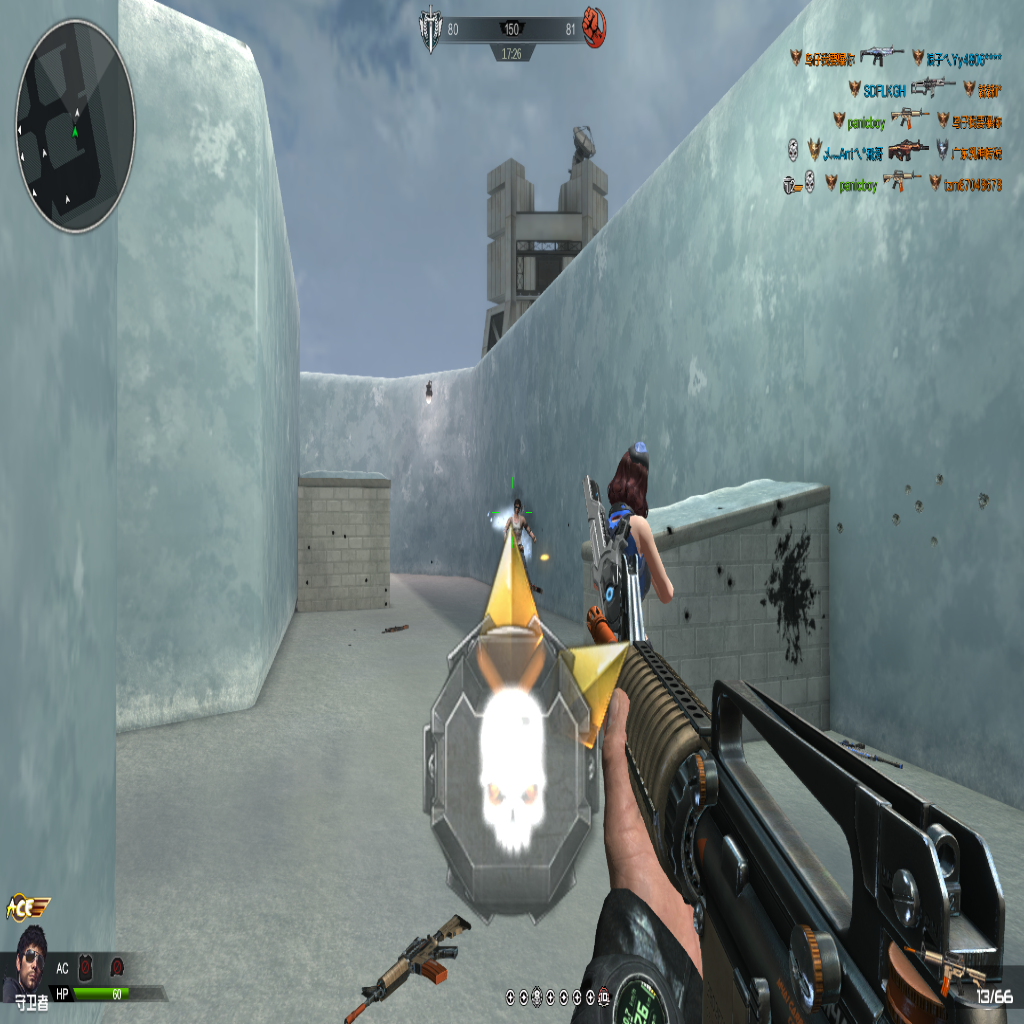ct: (602, 445, 667, 616)
